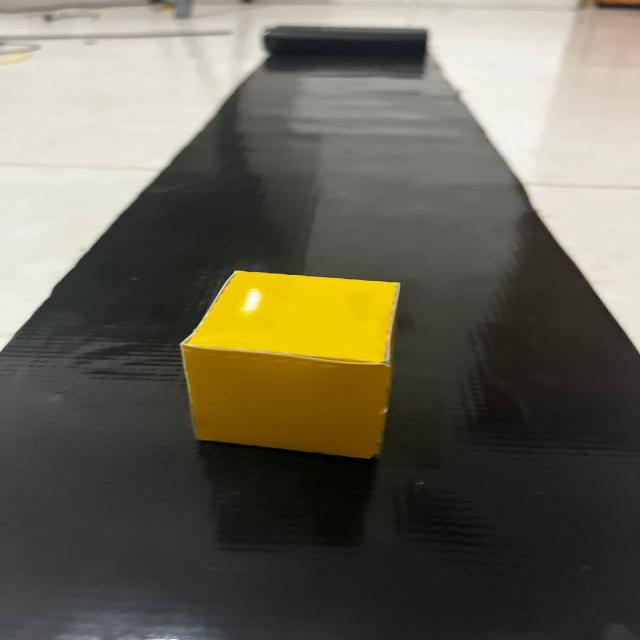Amarillo: (158, 258, 428, 476)
